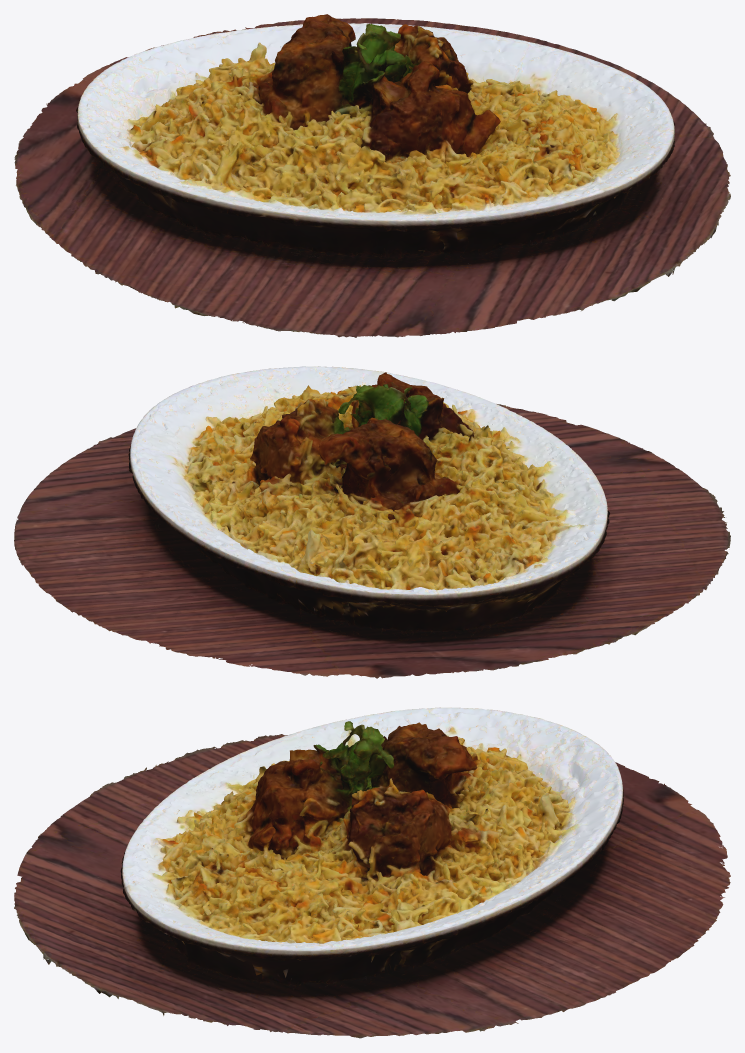
Rendered from best_briyani.glb.
3 views of the same model, one above another, from view 1: azimuth 30°, elevation 25°; view 2: azimuth 150°, elevation 25°; view 3: azimuth 270°, elevation 25° (orthographic).
Parts seen in each view (by area): view 1: meshNode_Material_u1_v1_0_1; view 2: meshNode_Material_u1_v1_0_1; view 3: meshNode_Material_u1_v1_0_1.
Boxes of the visible parts, x1,y1,x2,y2 form: meshNode_Material_u1_v1_0_1: (14,14,730,337); meshNode_Material_u1_v1_0_1: (14,366,730,678); meshNode_Material_u1_v1_0_1: (14,707,730,1038).
Bounding box in the file's own units: 0.2491 × 0.0642 × 0.2486.
Materials: 1 (1 with a texture image).
